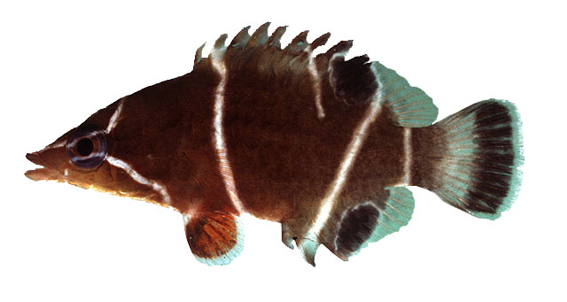fish: (24, 22, 526, 266)
